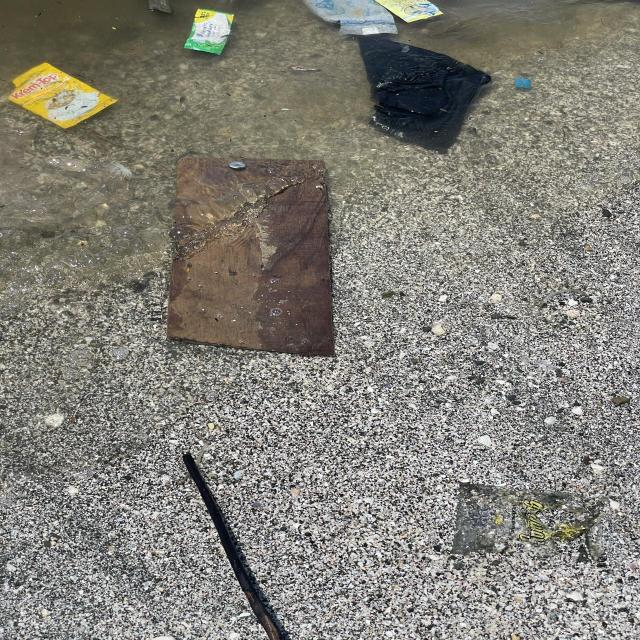plastic_waste: (11, 63, 121, 130), (298, 1, 441, 35), (184, 9, 236, 58)
wood_waste: (169, 155, 339, 357)
